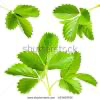Strawberry leaf: (37, 31, 60, 65), (62, 50, 81, 82), (17, 50, 46, 70), (3, 63, 37, 80), (48, 49, 74, 71), (52, 2, 80, 20), (13, 13, 33, 38), (57, 79, 82, 96), (14, 3, 41, 18), (62, 16, 78, 41), (17, 77, 40, 94), (77, 5, 92, 25), (7, 8, 20, 30)
